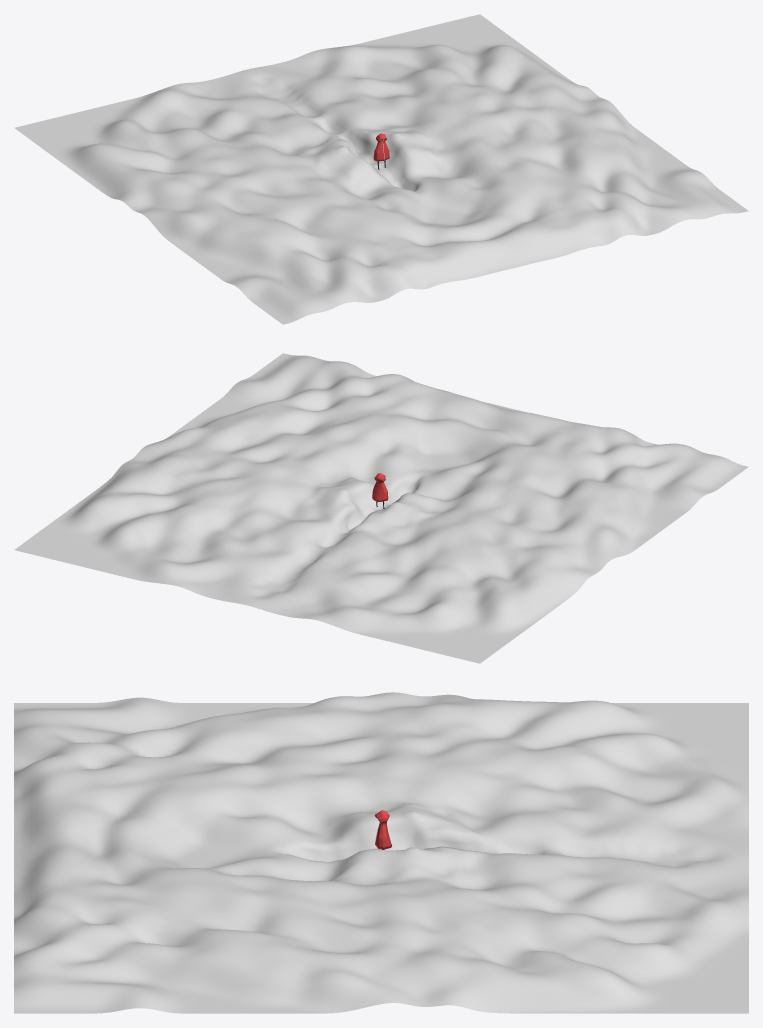
The model's file is lrrh_hq.fbx.
3 renders of one model, top to bottom at view 1: azimuth 30°, elevation 25°; view 2: azimuth 150°, elevation 25°; view 3: azimuth 270°, elevation 25°, orthographic. The views are drawn at different scales.
Visible parts, largest first — view 1: Plane; view 2: Plane; view 3: Plane.
Boxes of the visible parts, <box> form: Plane: <box>14,14,748,324</box>; Plane: <box>14,353,748,663</box>; Plane: <box>14,692,748,1013</box>.
Size of the model in its own units: 9412 by 9412 by 877.
